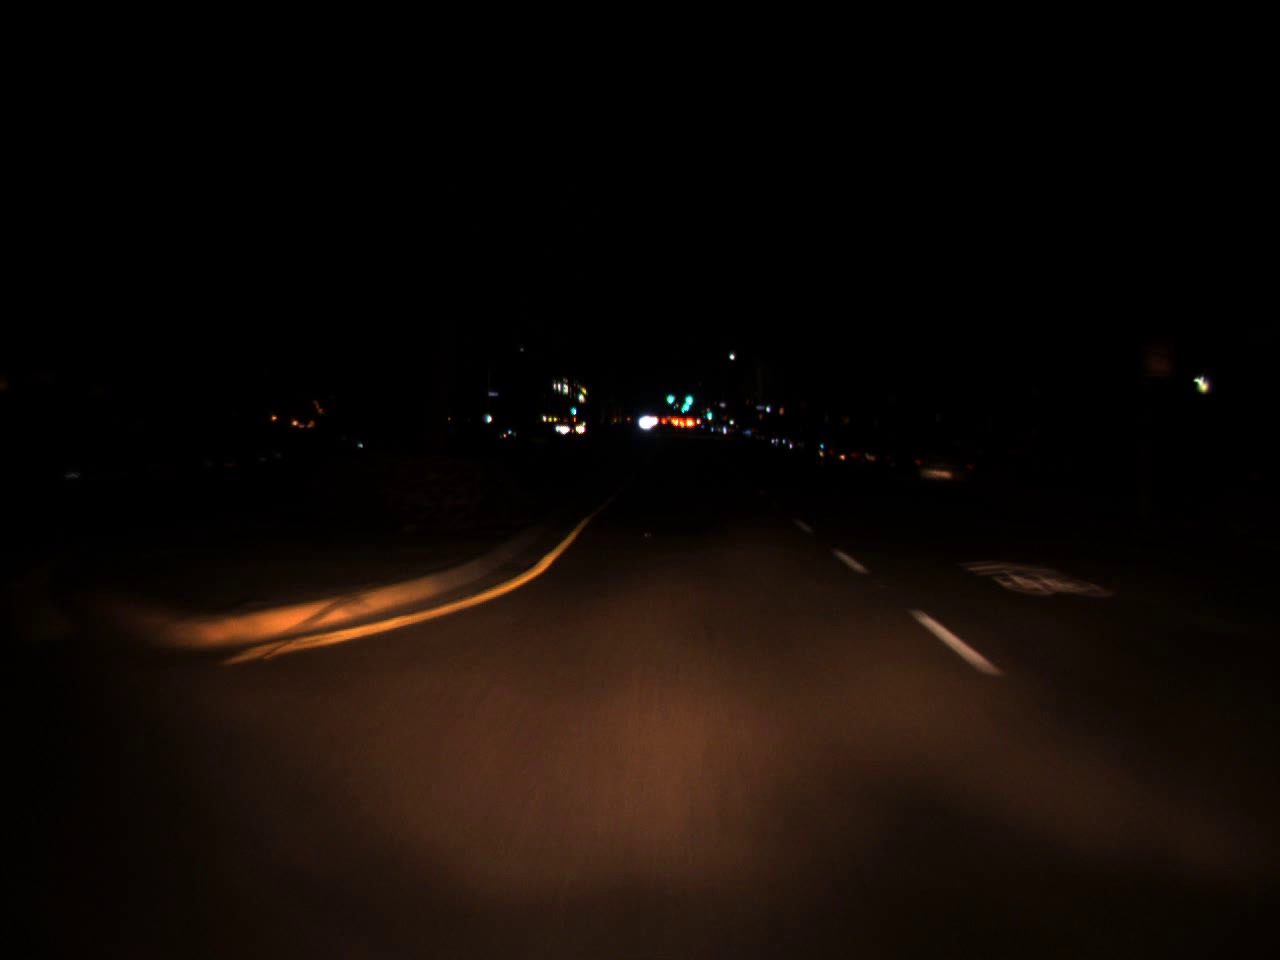go: (680, 385, 694, 409), (665, 384, 674, 408), (569, 399, 577, 417), (706, 405, 713, 419)
